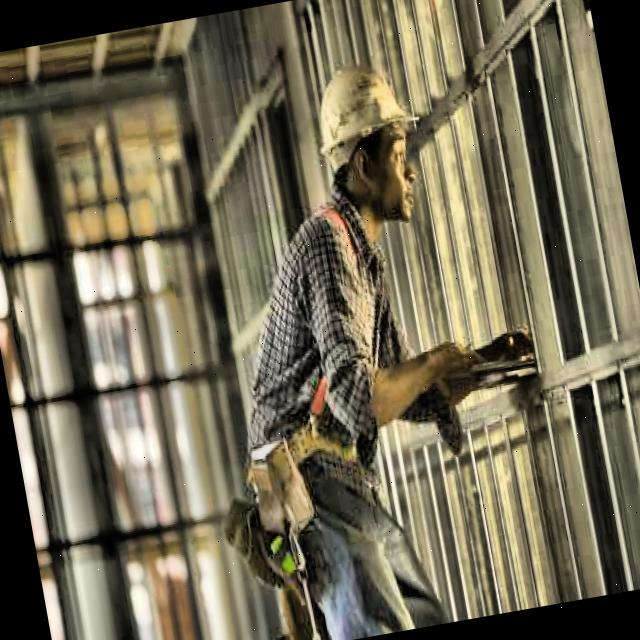helmet: (295, 38, 432, 238)
